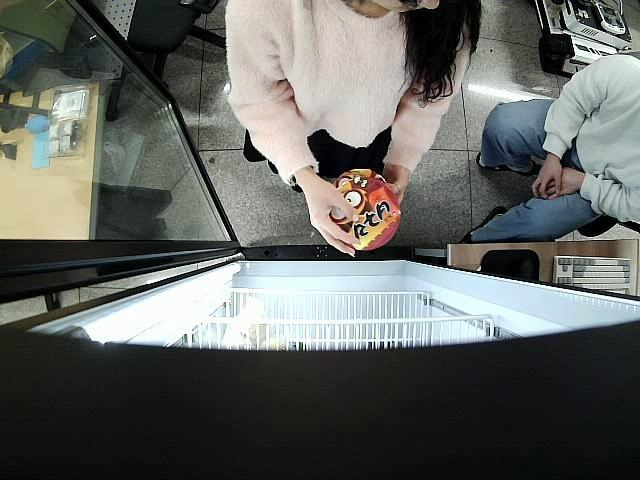05_nuguri_L: (325, 168, 401, 252)
